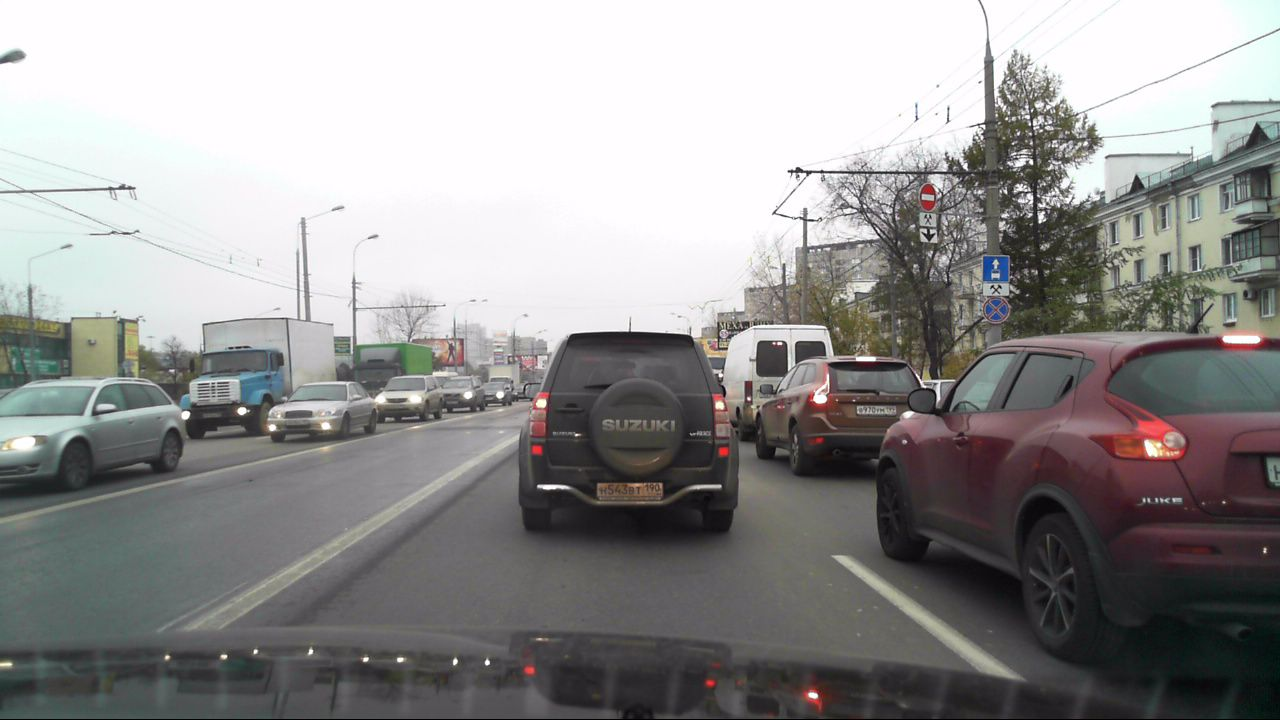No Parking: (983, 298, 1010, 324)
